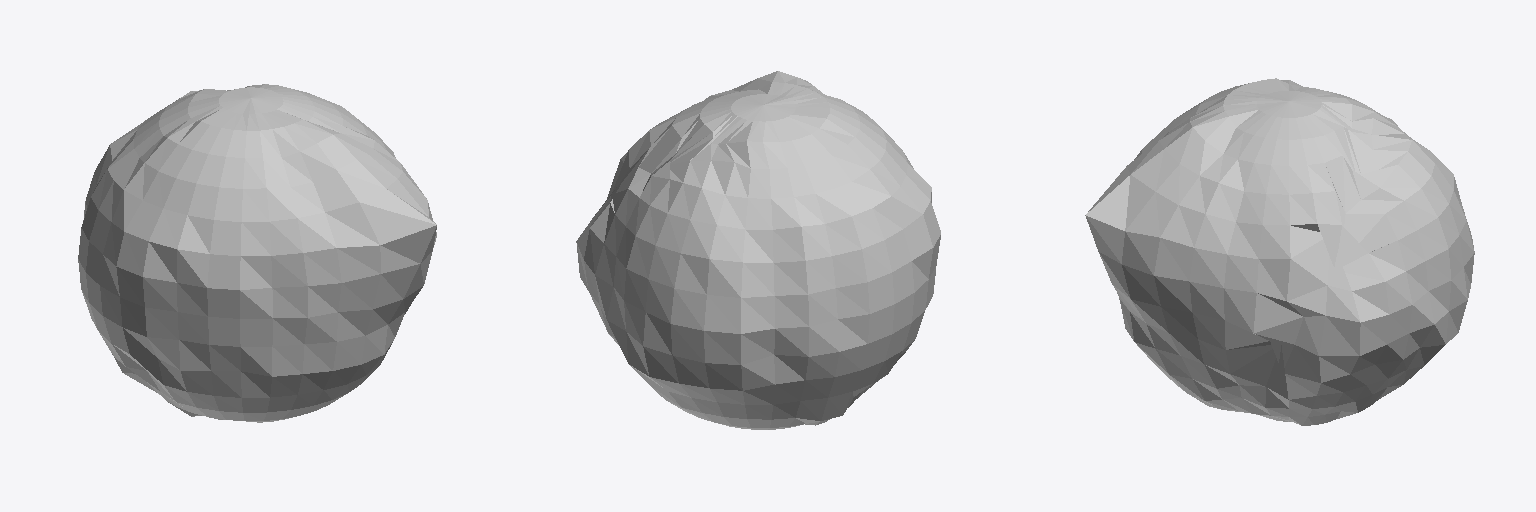
File: WeirdBall.obj
3 renders of one model, left to right at view 1: azimuth 30°, elevation 25°; view 2: azimuth 150°, elevation 25°; view 3: azimuth 270°, elevation 25°, orthographic.
Parts seen in each view (by area): view 1: Sphere; view 2: Sphere; view 3: Sphere.
Part boxes in pixels (x1,y1,x2,y2): Sphere: (78,84,436,422); Sphere: (576,71,940,429); Sphere: (1085,78,1474,425).
Size of the model in its own units: 2.12 by 2.05 by 2.34.